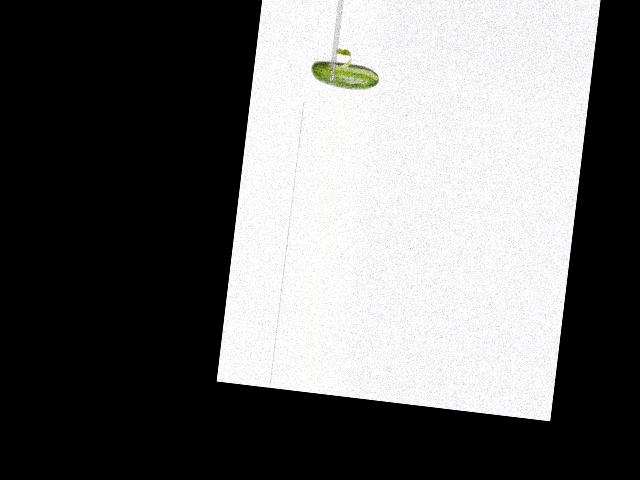cucumber: (309, 58, 380, 92)
